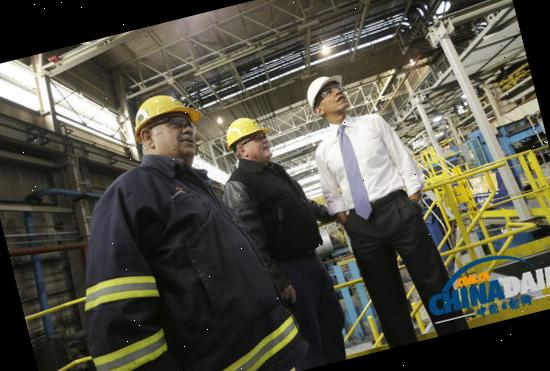helmet: (124, 84, 207, 140), (219, 112, 270, 149), (298, 67, 348, 102)
no_wear: (306, 106, 419, 221), (222, 160, 316, 274)
wear: (58, 136, 306, 371)
